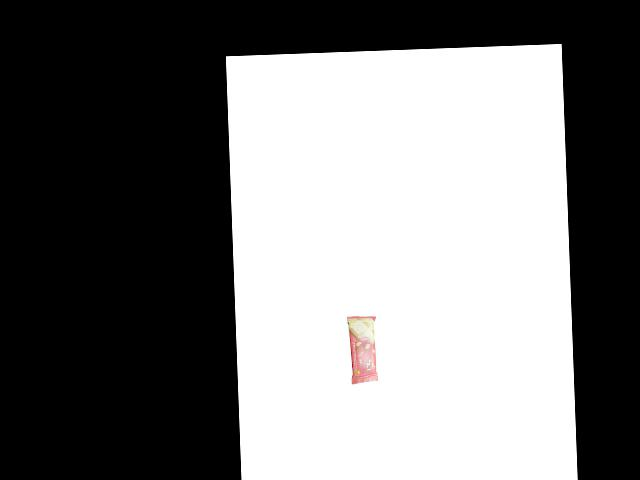chocolate: (342, 315, 380, 389)
